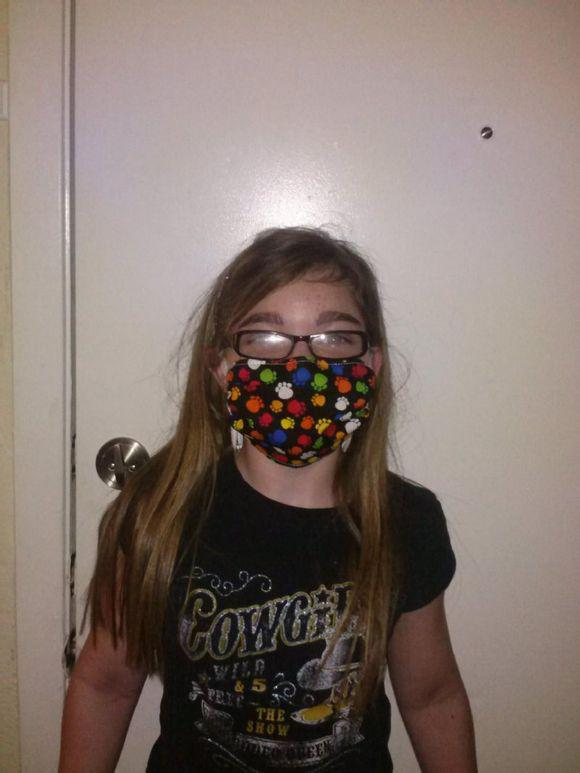OK: (224, 310, 374, 471)
